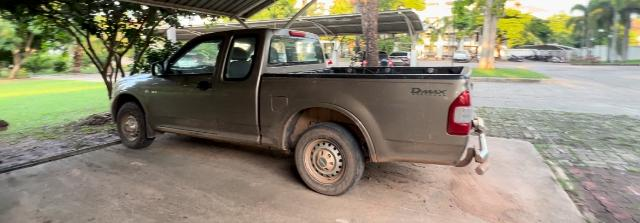pickup-truck: (108, 28, 492, 197)
